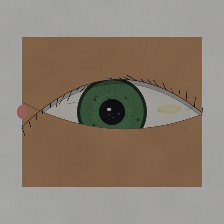pinguecula_lesion: (145, 90, 193, 128)
